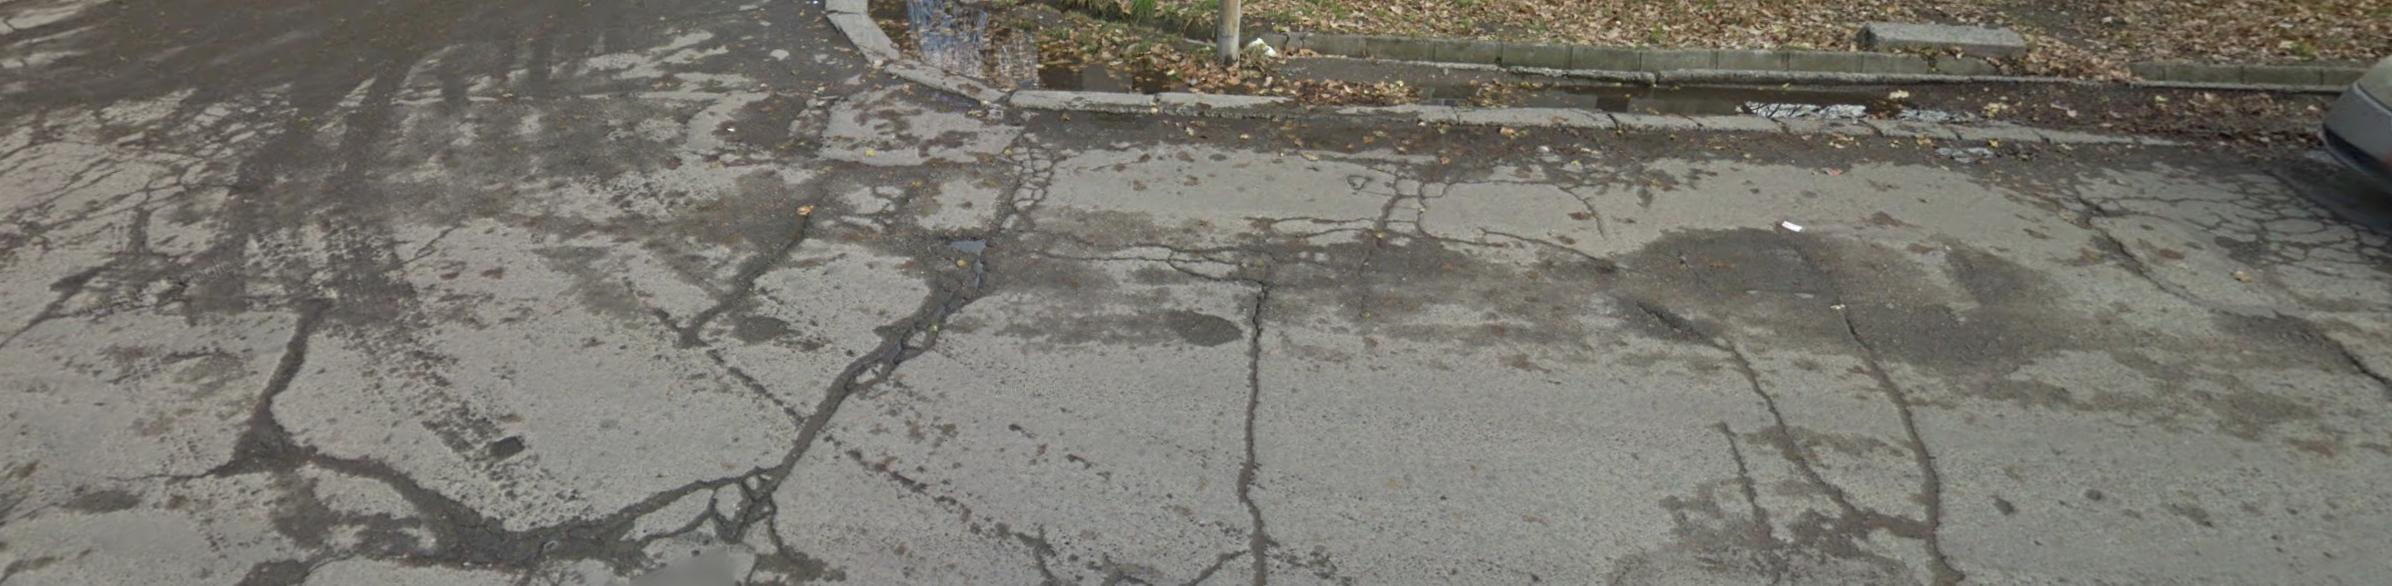longitudinal_crack: (745, 160, 1055, 312)
pothole: (1830, 292, 1995, 586), (1232, 255, 1300, 580)
